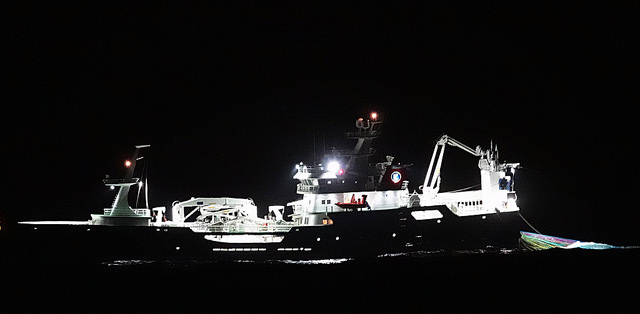fishing_boat: (15, 113, 607, 255)
